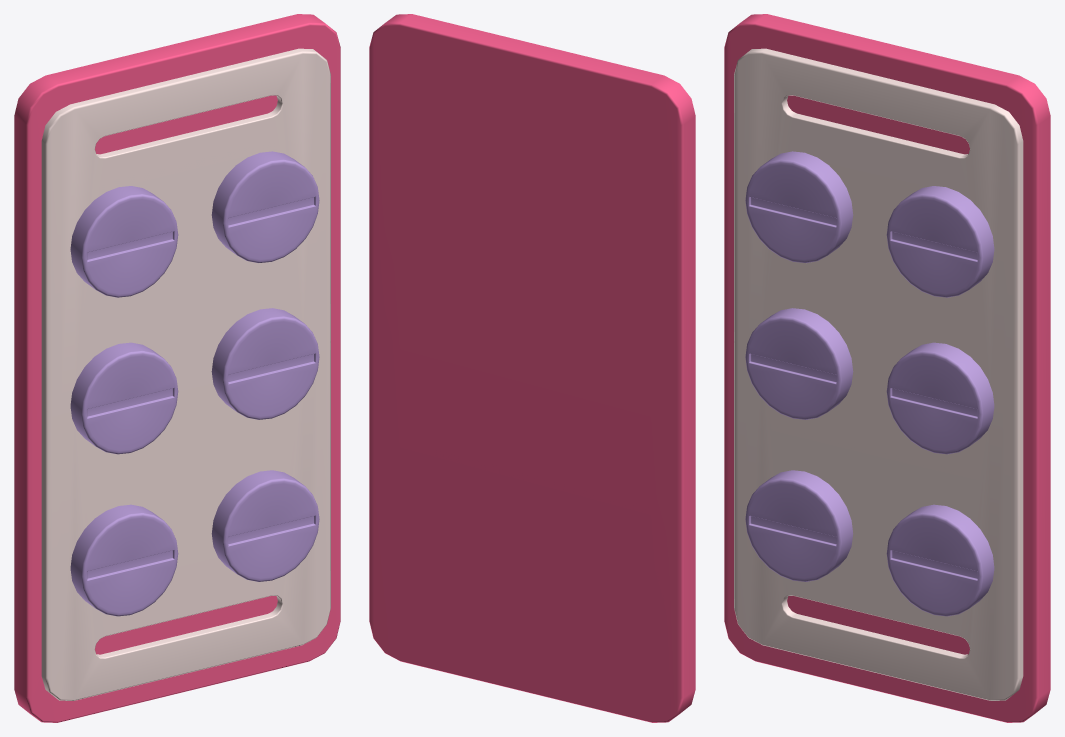
File: Public_3_Pill_Pack_4.glb
The picture shows the model from 3 angles, left to right: view 1: azimuth 30°, elevation 25°; view 2: azimuth 150°, elevation 25°; view 3: azimuth 330°, elevation 25°; orthographic projection.
Visible parts, largest first — view 1: Public_3_Pill_Pack_4; view 2: Public_3_Pill_Pack_4; view 3: Public_3_Pill_Pack_4.
Boxes of the visible parts, box(x1,y1,x2,y2) form: Public_3_Pill_Pack_4: box(14, 14, 340, 722); Public_3_Pill_Pack_4: box(369, 14, 695, 722); Public_3_Pill_Pack_4: box(724, 14, 1050, 722).
Bounding box in the file's own units: 1.66 × 3.21 × 0.2837.
Materials: 1 (1 with a texture image).
